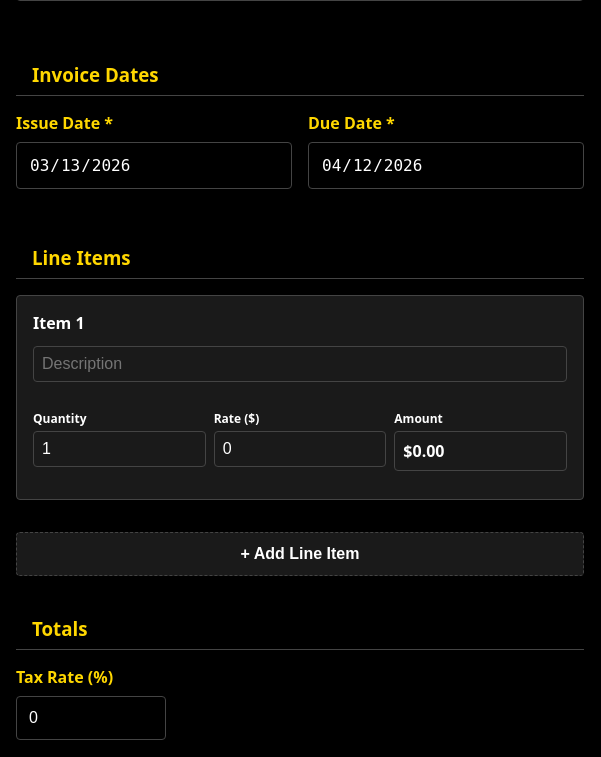
Test: InvoiceForm › calculates totals correctly
The width and height of the screenshot is (601, 757).
(page scrolled)
Type "Test item" into the field with placeholder "Description" at (300, 364), box [33, 346, 567, 382]
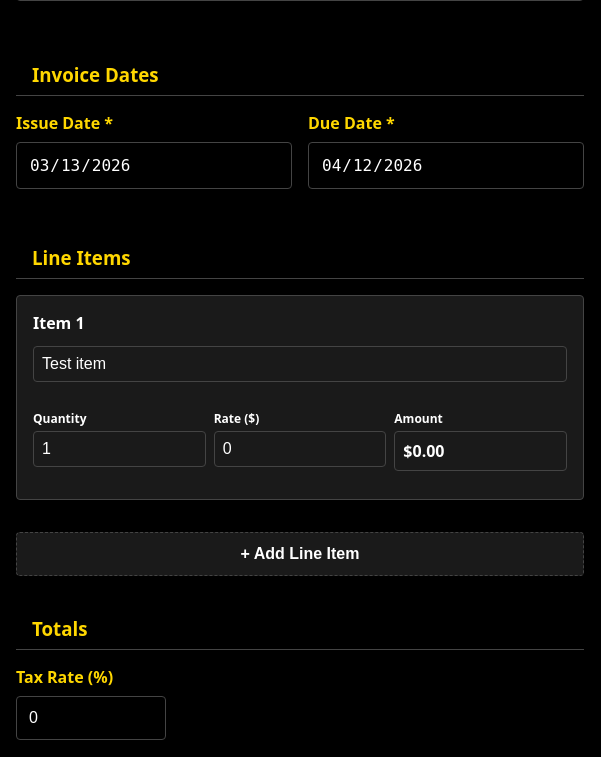
Replace the text in the number field below "Quantity" with "2" at (119, 449), box [33, 431, 206, 467]
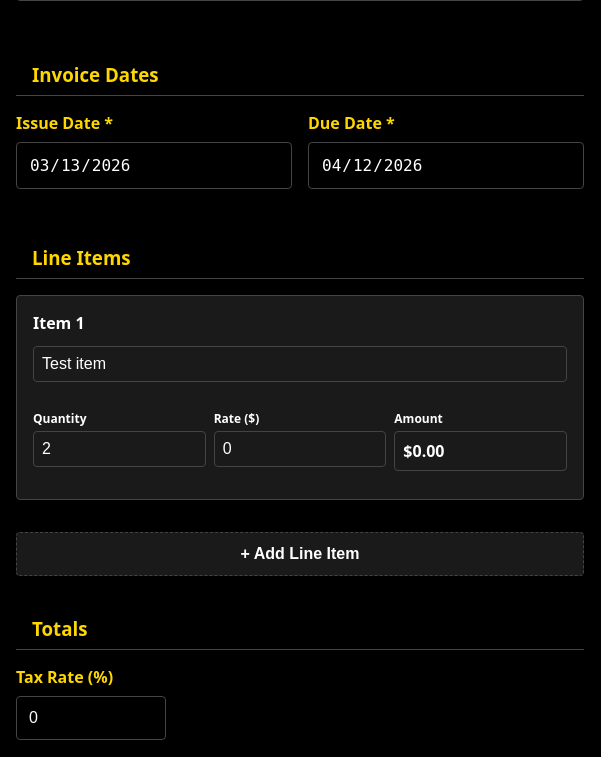
Replace the text in the number field below "Rate ($)" with "50" at (300, 449), box [214, 431, 386, 467]
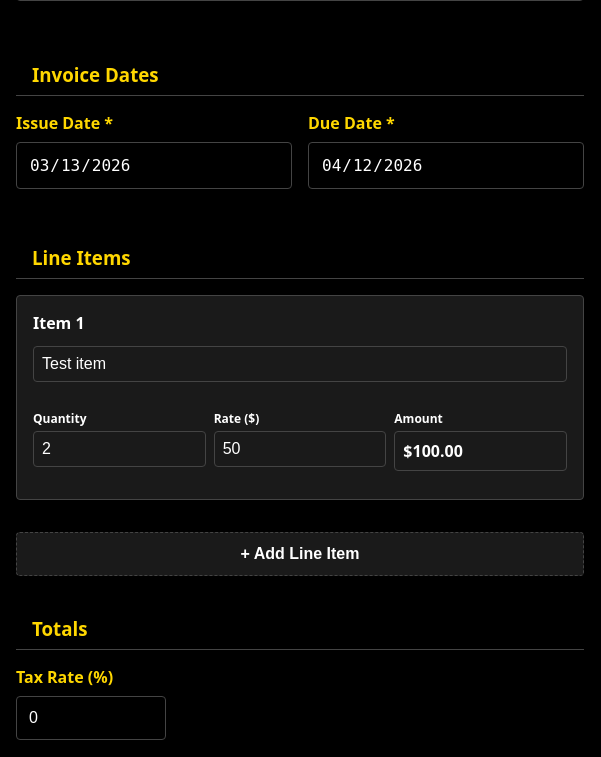
Now the text "$100.00" is shown, box [394, 431, 567, 471]
